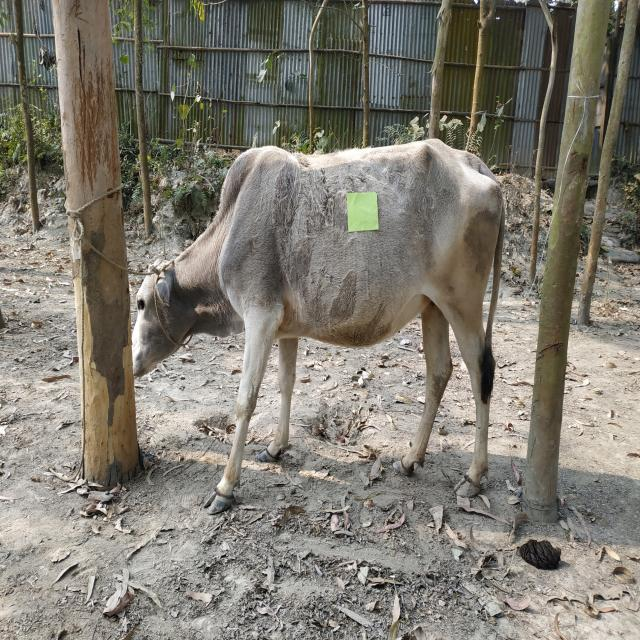badan_sapi: (239, 145, 489, 350)
sapi: (119, 126, 512, 521)
